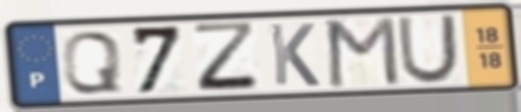7: (130, 23, 186, 97)
K: (266, 21, 323, 89)
M: (325, 14, 403, 90)
Q: (59, 29, 124, 96)
U: (395, 12, 461, 86)
Z: (189, 19, 264, 94)
